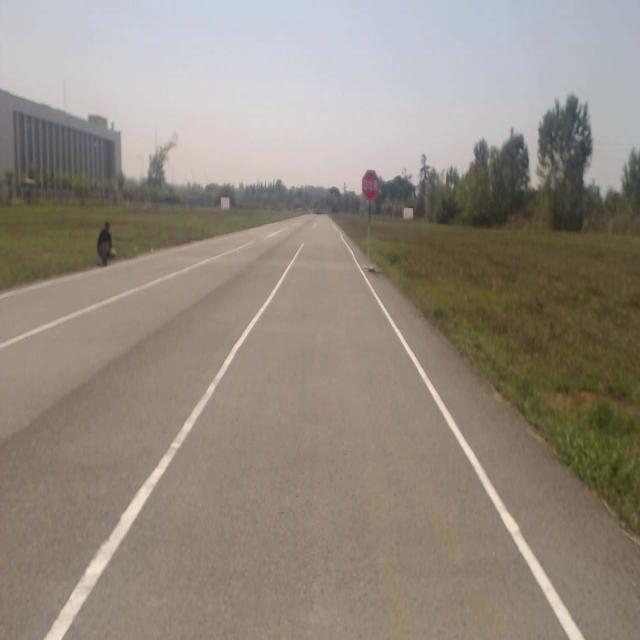dur: (362, 170, 379, 199)
